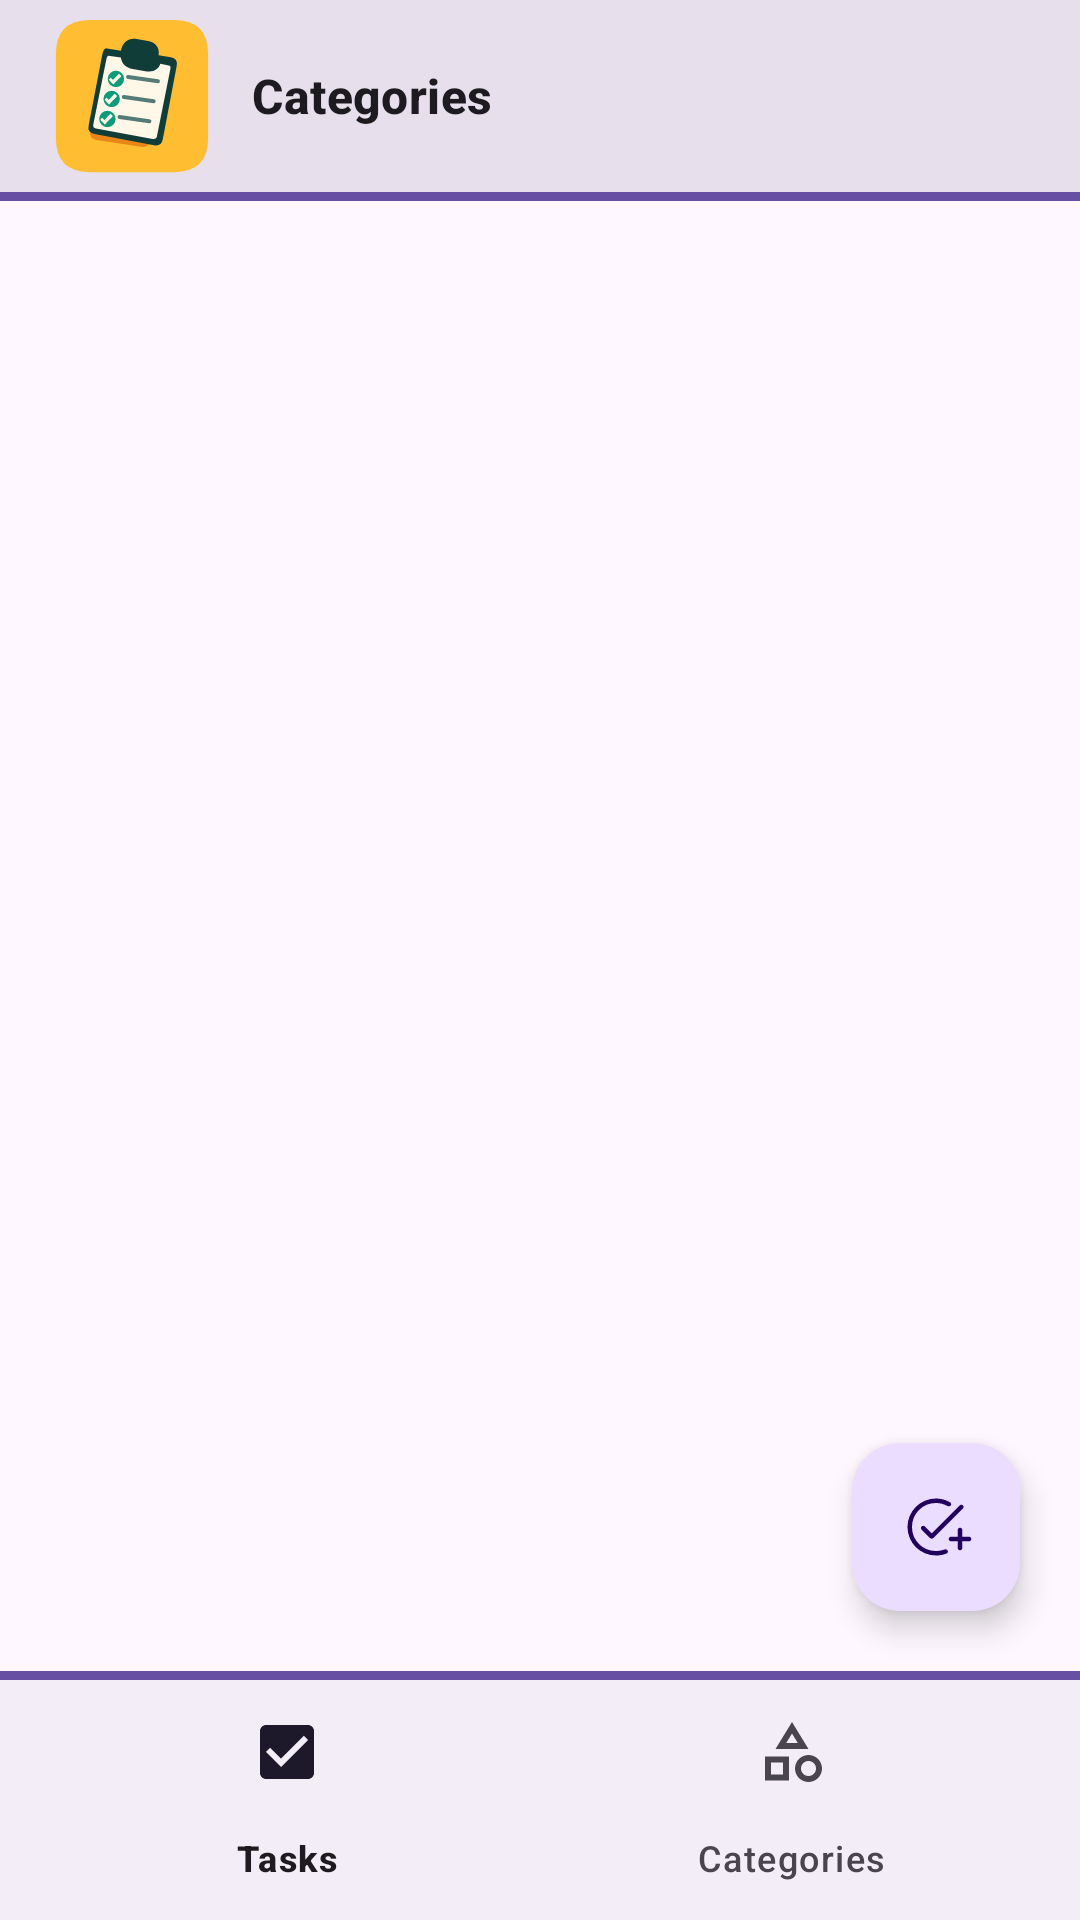

Icon bounding boxes for this 1080×1920 phone screenshot, format (x1, y1, x2, y2):
Add category: (852, 1443, 1020, 1611)
